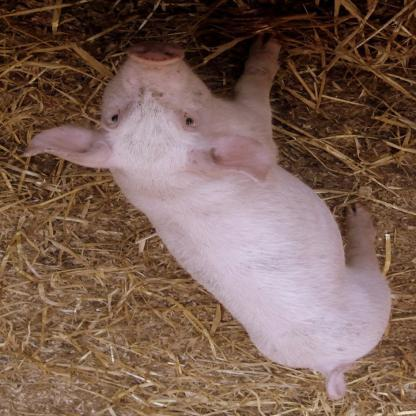boar: (19, 39, 393, 402)
